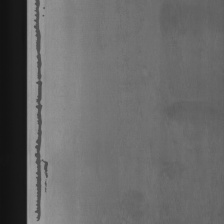water_spot: (32, 0, 54, 224)
